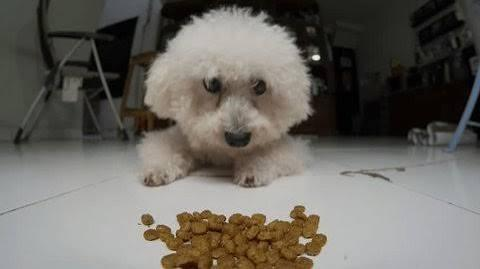adult_dog: (135, 6, 315, 190)
